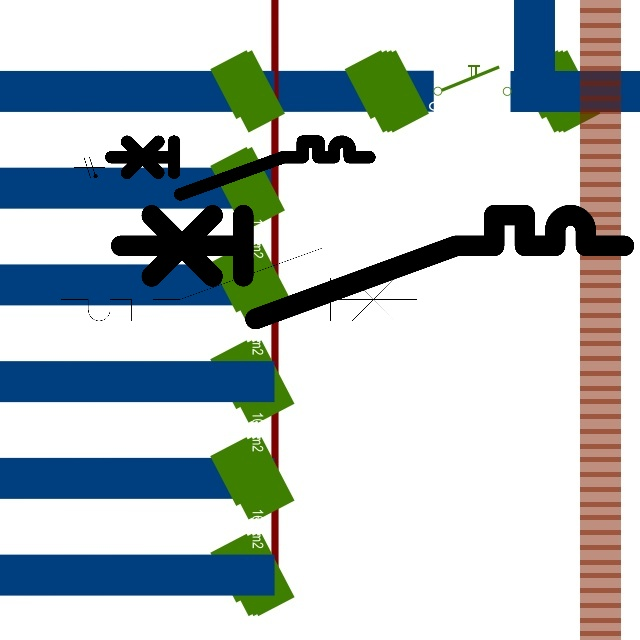interruptor_termomagnetico: (108, 202, 637, 331), (52, 239, 426, 330), (104, 135, 375, 201)
